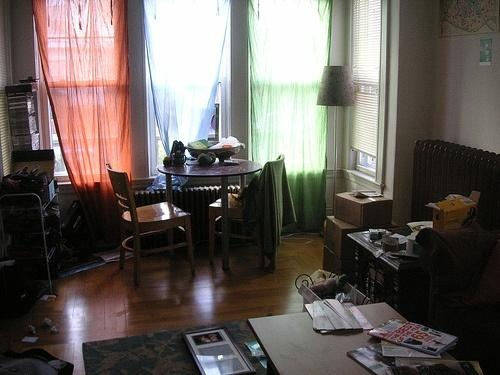chair: (107, 170, 199, 288), (210, 156, 287, 274)
diningtable: (157, 159, 266, 275)
sofa: (417, 222, 500, 354)
